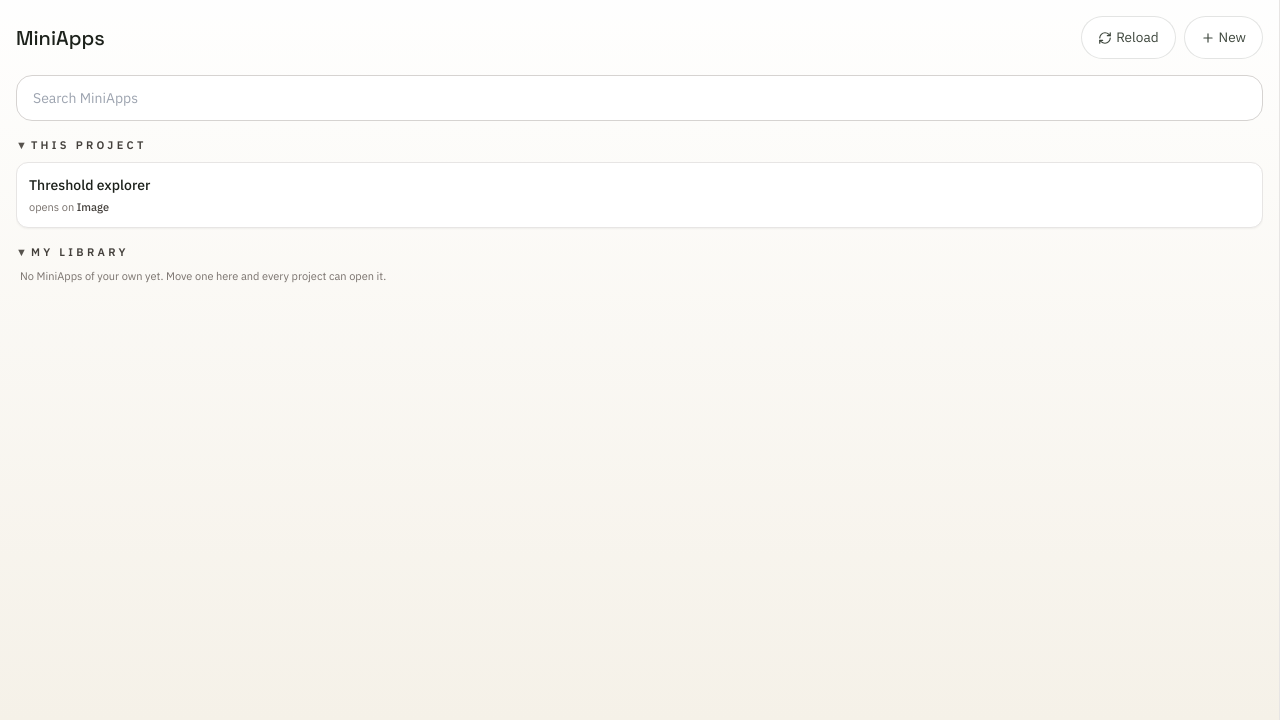
MiniApp registry refresh › keeps the listing and reports a failed rescan
The width and height of the screenshot is (1280, 720).
Expected: the element with test id "miniapp-palette-content" is shown, [16,75,1263,283]
Expected: the button with test id "miniapp-card-threshold-explorer" is shown, [16,162,1263,228]
Click the button "Reload".
click(1128, 38)  # box [1081,16,1176,59]
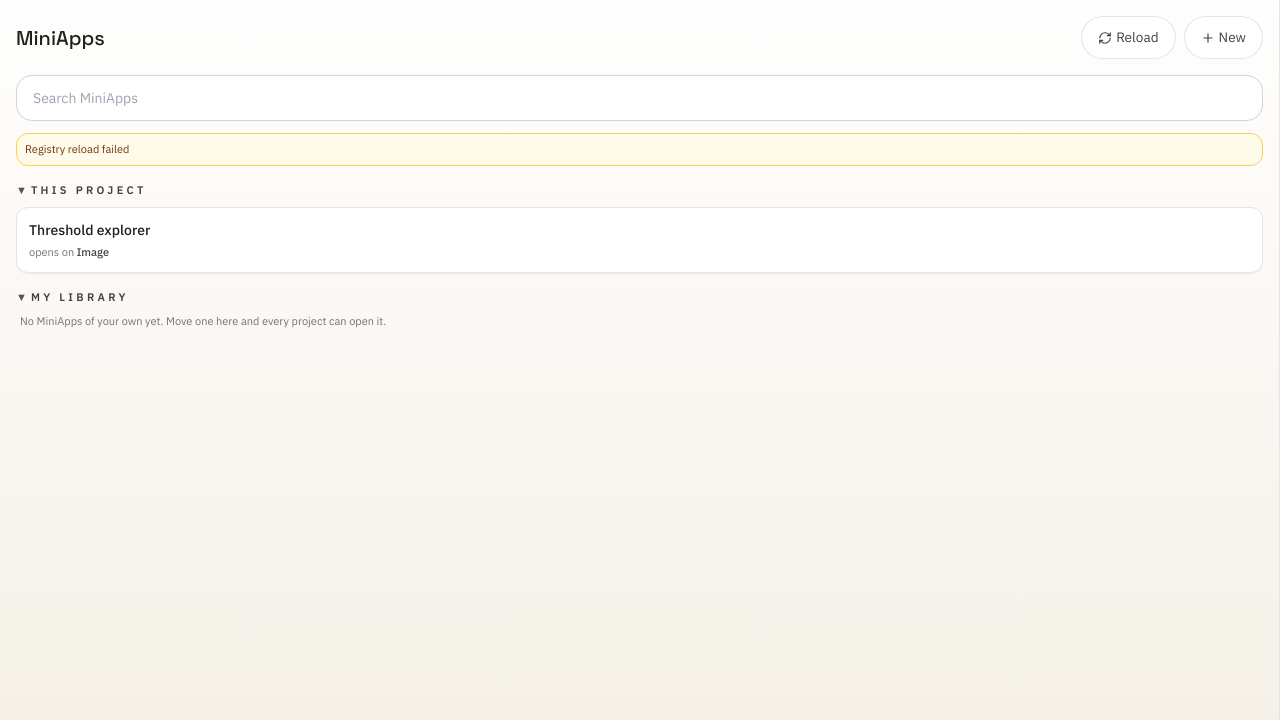
Expected: the button with test id "miniapp-card-threshold-explorer" is shown, [16,207,1263,273]
Expected: the message reads "Registry reload failed", [25,142,130,156]
